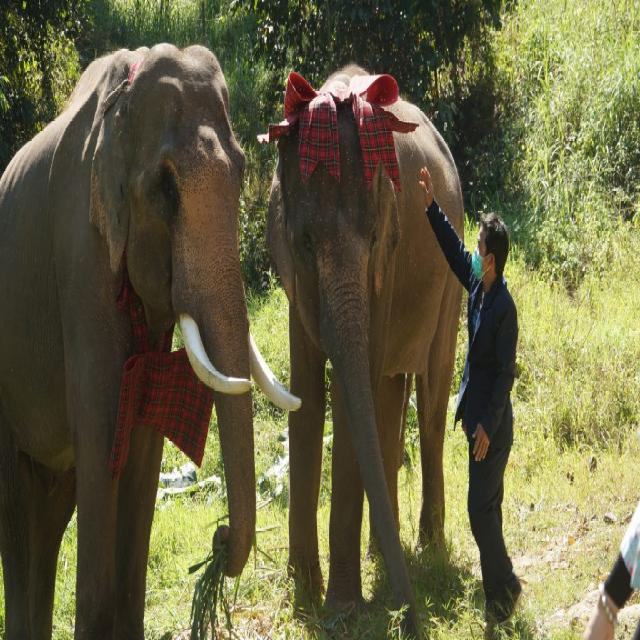Elephant: (0, 28, 273, 628), (230, 66, 518, 634)
